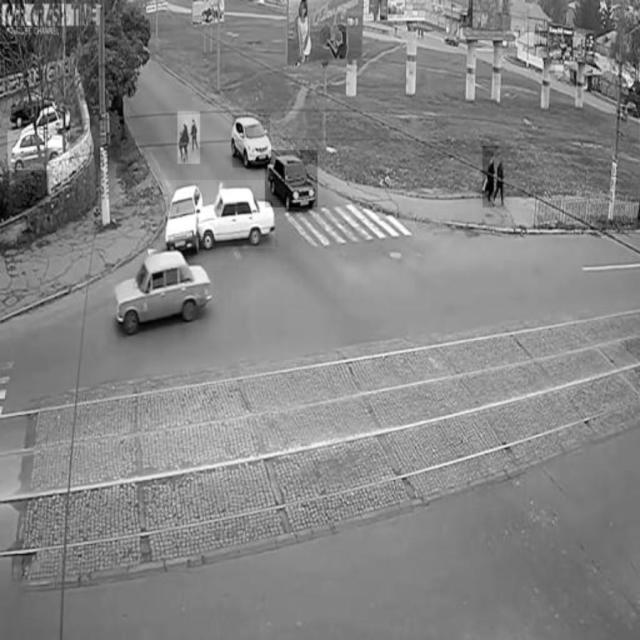accident: (163, 180, 275, 248)
person: (178, 111, 200, 163), (482, 147, 498, 208), (495, 152, 510, 213)
vehicle: (108, 247, 212, 338), (266, 151, 318, 208), (7, 130, 71, 170), (232, 116, 270, 168)
